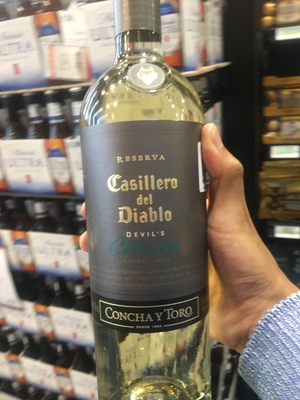casillero del diablo devils collection verde: (74, 3, 222, 400)
